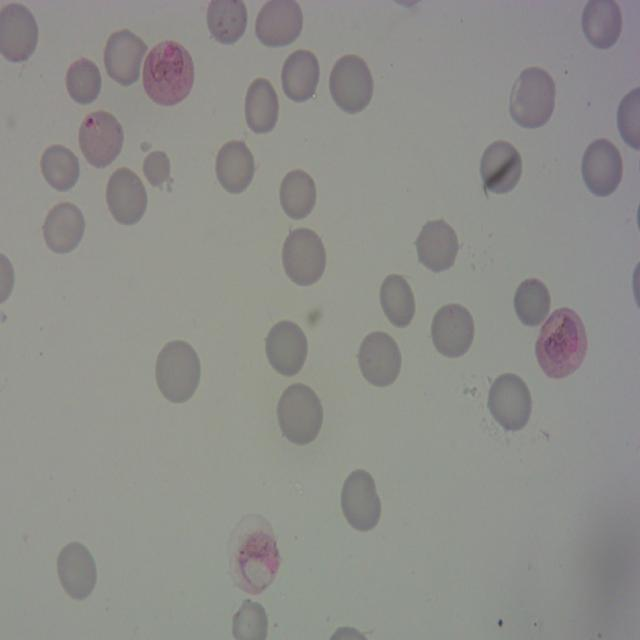gametocyte: (533, 305, 589, 381), (141, 36, 195, 107)
leukocyte: (509, 65, 562, 129), (152, 337, 204, 400), (485, 370, 534, 435), (326, 51, 374, 117), (276, 381, 323, 446), (101, 26, 148, 89), (339, 467, 383, 534), (579, 135, 624, 200), (263, 317, 310, 379), (357, 329, 403, 392), (281, 226, 326, 288), (414, 216, 461, 275), (212, 136, 257, 197), (42, 197, 89, 254), (478, 139, 524, 197), (429, 300, 474, 356), (241, 75, 281, 137), (38, 140, 82, 196), (377, 271, 418, 331), (511, 274, 552, 330), (62, 55, 103, 109), (276, 169, 318, 219), (105, 173, 147, 223), (59, 543, 95, 599), (279, 49, 319, 98), (142, 149, 173, 192)
schizont: (227, 514, 282, 596)
